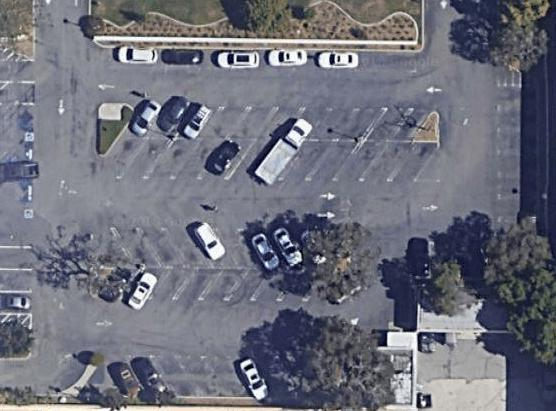parkingspot: (92, 135, 440, 184), (118, 102, 438, 143), (85, 224, 338, 270), (96, 352, 299, 399), (93, 266, 333, 304), (111, 45, 417, 73), (494, 84, 540, 224), (0, 160, 37, 316), (0, 58, 38, 150)
